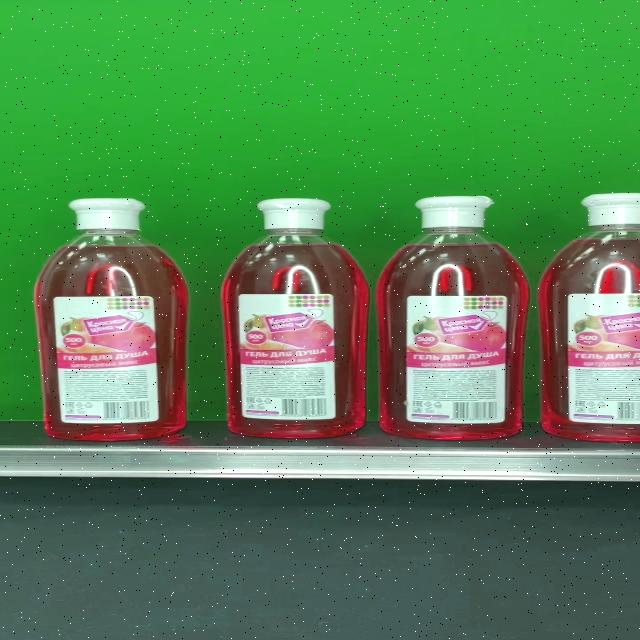Bottle: (34, 198, 189, 440), (378, 195, 529, 440), (221, 198, 369, 438)
Cap: (414, 195, 494, 229), (67, 198, 146, 230), (256, 198, 331, 231)
